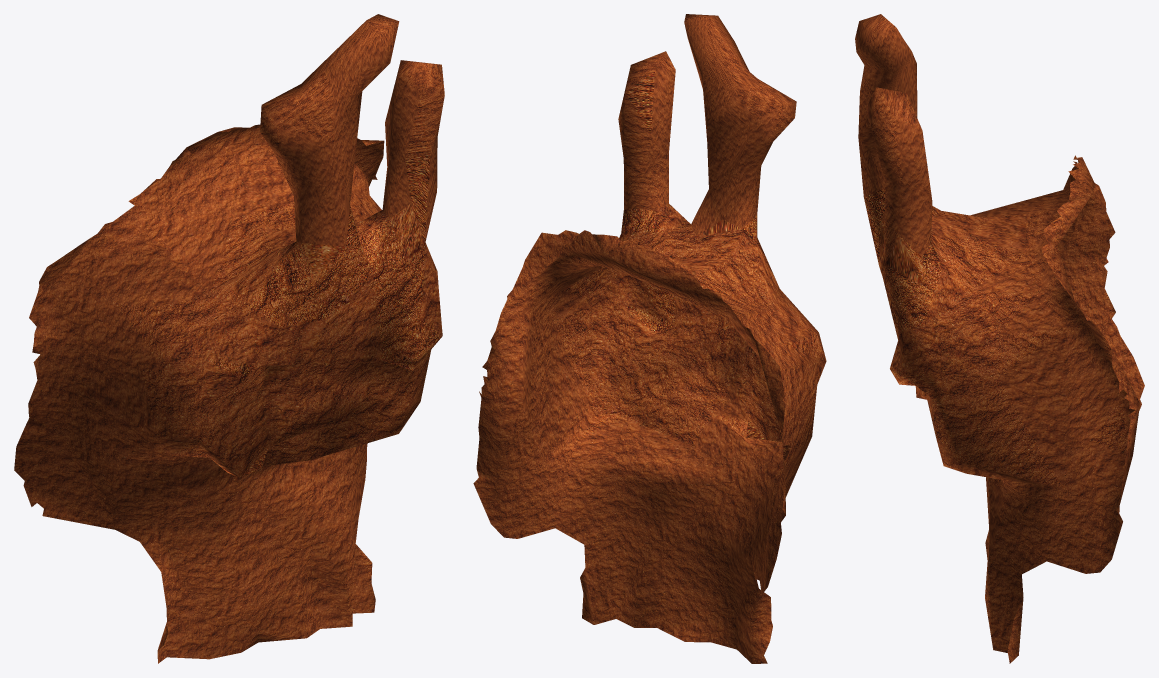
3 renders of one model, left to right at view 1: azimuth 30°, elevation 25°; view 2: azimuth 150°, elevation 25°; view 3: azimuth 270°, elevation 25°, orthographic. The views are drawn at different scales.
Parts seen in each view (by area): view 1: wall1; view 2: wall1; view 3: wall1.
Part boxes in pixels (x1,y1,x2,y2): wall1: (14, 14, 444, 663); wall1: (473, 14, 826, 663); wall1: (855, 14, 1144, 663).
Bounding box in the file's own units: 73.26 × 55.59 × 130.
Materials: 1 (1 with a texture image).
